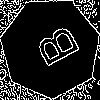B: (25, 22, 81, 74)
